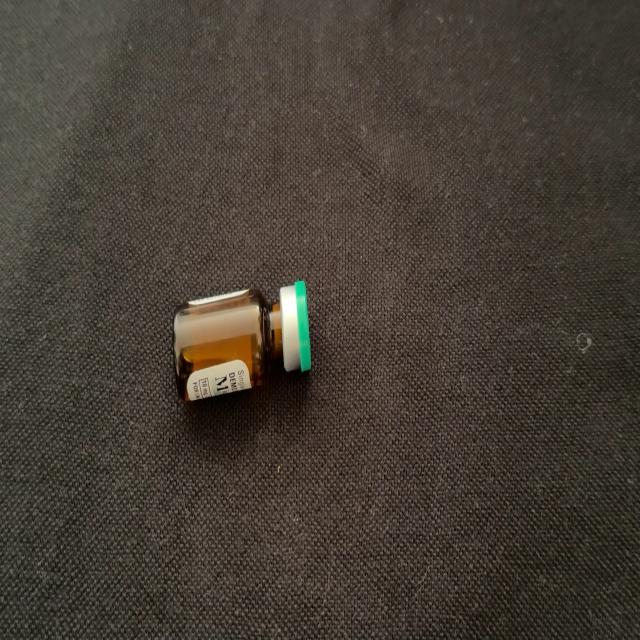midazolm: (175, 283, 310, 401)
